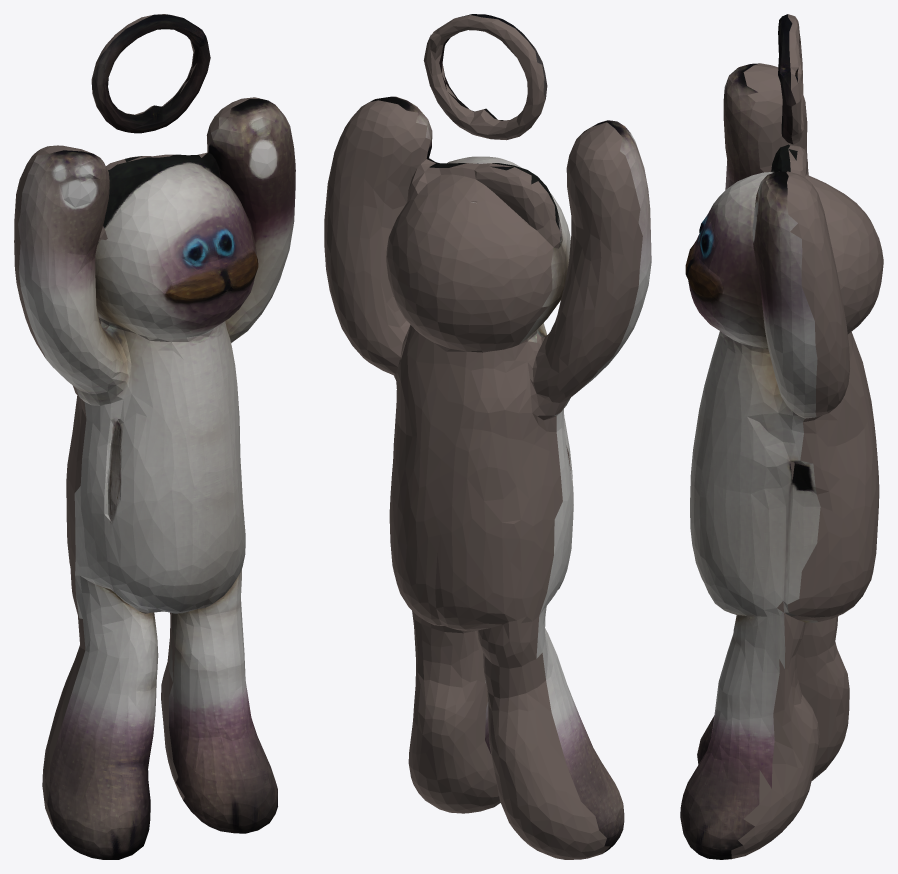
File: 03-暹羅貓-月月.glb
3 renders of one model, left to right at view 1: azimuth 30°, elevation 25°; view 2: azimuth 150°, elevation 25°; view 3: azimuth 270°, elevation 25°, orthographic. The views are drawn at different scales.
Parts seen in each view (by area): view 1: world; view 2: world; view 3: world.
Part boxes in pixels (bbox=[...]): world: bbox=[14, 14, 295, 859]; world: bbox=[324, 14, 651, 859]; world: bbox=[680, 14, 883, 859].
Bounding box in the file's own units: 0.3723 × 1 × 0.2287.
1 material, 1 textured.
